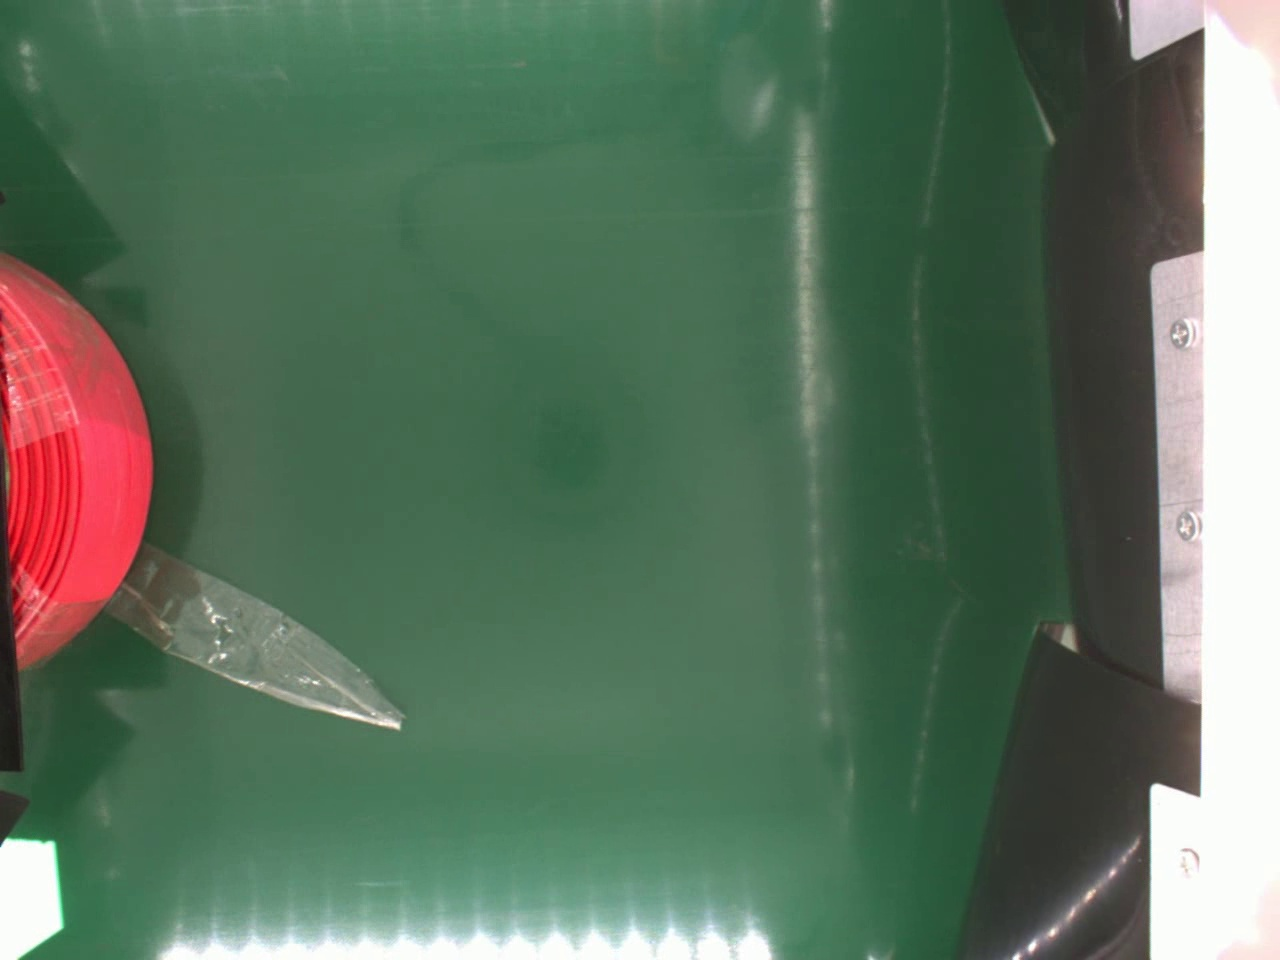red: (0, 249, 159, 675)
